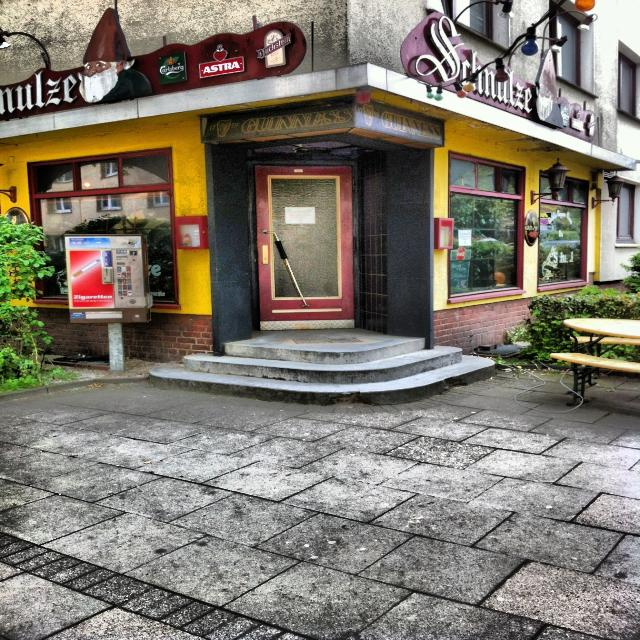escada: (152, 327, 499, 407)
